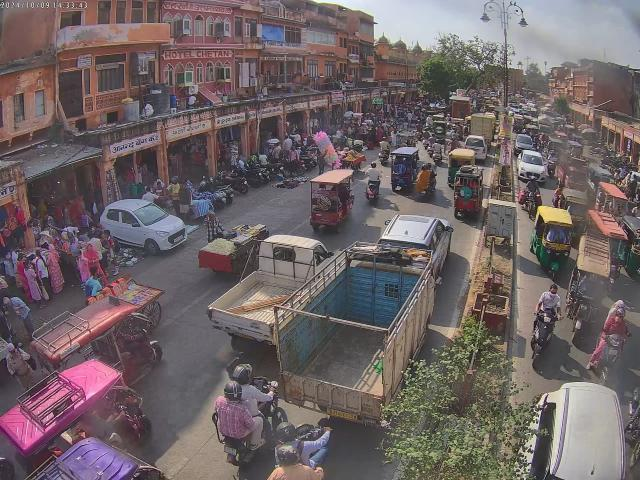auto: (0, 358, 169, 480), (578, 208, 639, 283), (308, 167, 356, 233), (530, 205, 574, 273), (450, 166, 484, 220), (390, 146, 420, 192)
car: (520, 380, 628, 480), (98, 198, 188, 253)
helmet: (274, 445, 300, 465), (614, 308, 624, 320), (614, 298, 626, 308)
license_plate: (326, 408, 358, 420), (224, 446, 238, 456)
lorry: (268, 242, 438, 430), (208, 233, 334, 344)
motorbike-rider: (211, 374, 277, 470), (519, 186, 542, 216), (420, 163, 438, 200)
no_helmet: (548, 283, 560, 293)
person: (81, 271, 105, 304), (180, 178, 194, 206), (151, 178, 165, 196)
scooty-rider: (533, 284, 562, 348), (264, 450, 325, 480), (599, 300, 629, 356), (363, 162, 382, 202)
vendor: (197, 224, 266, 279), (342, 147, 365, 172)
